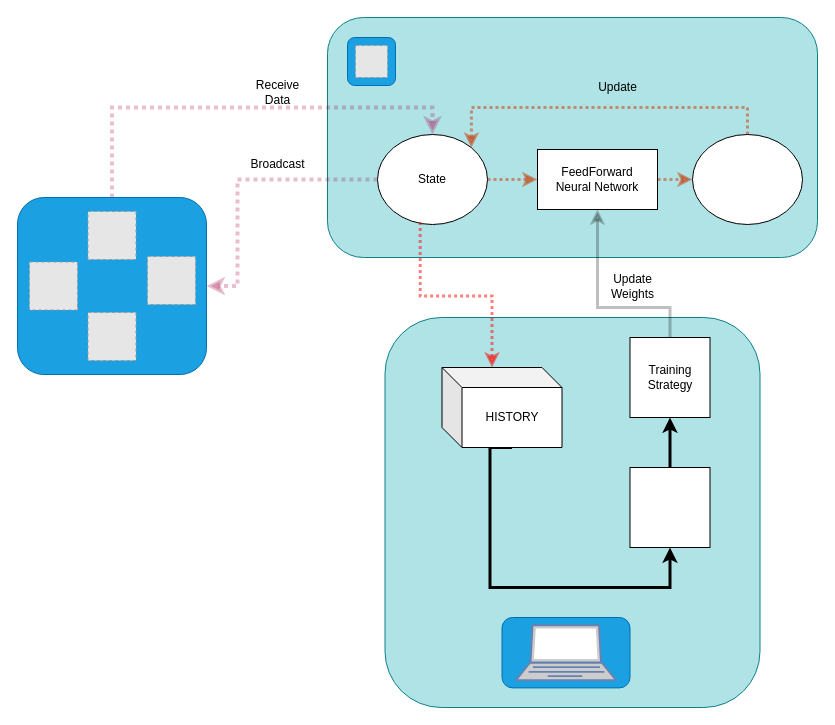
Some shapes in this 835 by 725 pixel diagram are drawn without their labels. Grey dashed boxes stand in for pictures. Here are the shapes that lost their labels. From the top down, the box of each, then its label:
(692, 134, 802, 224): Commands
(629, 466, 710, 548): Performance Metrics
